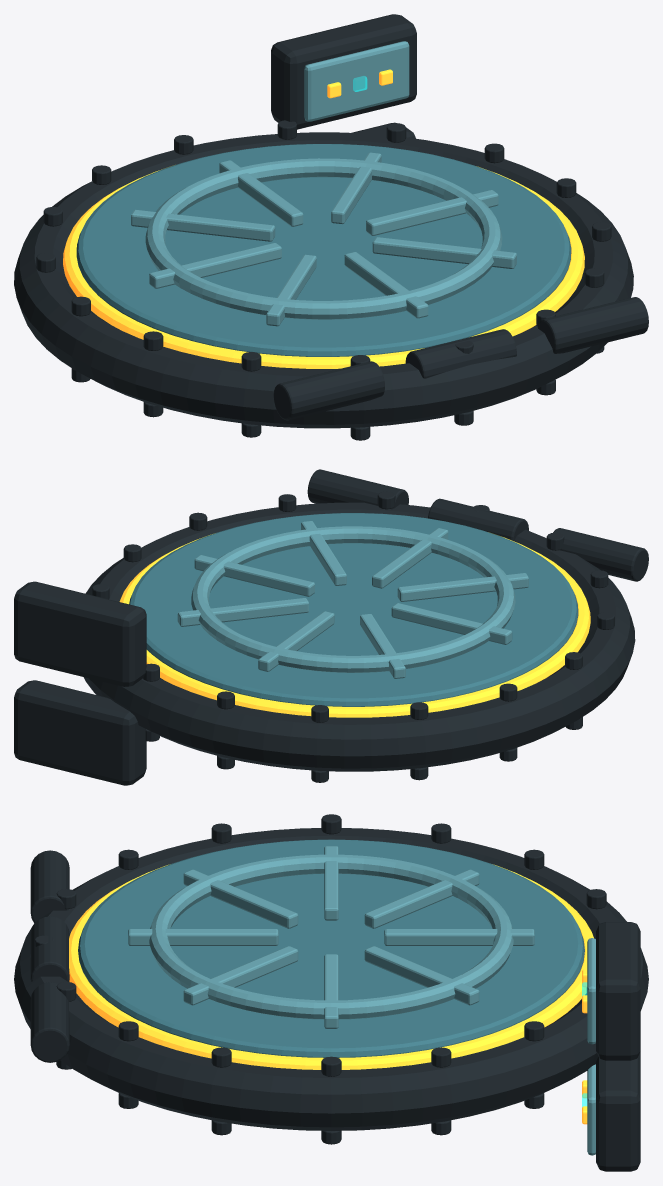
Rendered from 02_round_hinged_armored.glb.
3 views of the same model, one above another, from view 1: azimuth 30°, elevation 25°; view 2: azimuth 150°, elevation 25°; view 3: azimuth 270°, elevation 25° (orthographic). The views are drawn at different scales.
Parts seen in each view (by area): view 1: Moving_Round_Armored_Leaf, Outer_Reinforced_Rim, Moving_Top_Panel_Reinforcement, Inner_Pressure_Seal_Top, Control_Top_Housing, Control_Top_Face, External_Hinge_Barrel_0.001, External_Hinge_Barrel_2.001, External_Hinge_Barrel_1.001, Moving_Top_Radial_Rib_3, Moving_Top_Radial_Rib_7, Moving_Top_Radial_Rib_0 (+5 smaller); view 2: Moving_Round_Armored_Leaf, Outer_Reinforced_Rim, Moving_Top_Panel_Reinforcement, Control_Top_Housing, Control_Bottom_Housing, Inner_Pressure_Seal_Top, External_Hinge_Barrel_0.001, External_Hinge_Barrel_2.001, External_Hinge_Barrel_1.001, Moving_Top_Radial_Rib_5, Moving_Top_Radial_Rib_1, Moving_Top_Radial_Rib_0 (+5 smaller); view 3: Moving_Round_Armored_Leaf, Outer_Reinforced_Rim, Moving_Top_Panel_Reinforcement, Inner_Pressure_Seal_Top, Control_Top_Housing, Control_Bottom_Housing, External_Hinge_Barrel_2.001, Moving_Top_Radial_Rib_2, Moving_Top_Radial_Rib_6, External_Hinge_Barrel_0.001, External_Hinge_Barrel_1.001, Moving_Top_Radial_Rib_3 (+7 smaller).
Part boxes in pixels (<box>): Moving_Round_Armored_Leaf: <box>76,144,571,356</box>; Outer_Reinforced_Rim: <box>14,132,633,428</box>; Moving_Top_Panel_Reinforcement: <box>145,158,502,319</box>; Inner_Pressure_Seal_Top: <box>63,166,584,368</box>; Control_Top_Housing: <box>271,14,416,129</box>; Control_Top_Face: <box>304,41,409,121</box>; External_Hinge_Barrel_0.001: <box>273,361,384,420</box>; External_Hinge_Barrel_2.001: <box>537,297,648,353</box>; External_Hinge_Barrel_1.001: <box>405,329,516,378</box>; Moving_Top_Radial_Rib_3: <box>131,209,275,241</box>; Moving_Top_Radial_Rib_7: <box>372,237,516,268</box>; Moving_Top_Radial_Rib_0: <box>366,190,498,235</box>; Moving_Round_Armored_Leaf: <box>129,513,578,706</box>; Outer_Reinforced_Rim: <box>83,502,635,771</box>; Moving_Top_Panel_Reinforcement: <box>191,526,515,672</box>; Control_Top_Housing: <box>14,581,146,686</box>; Control_Bottom_Housing: <box>14,680,146,785</box>; Inner_Pressure_Seal_Top: <box>119,534,590,717</box>; External_Hinge_Barrel_0.001: <box>553,528,648,581</box>; External_Hinge_Barrel_2.001: <box>307,469,408,509</box>; External_Hinge_Barrel_1.001: <box>428,498,528,541</box>; Moving_Top_Radial_Rib_5: <box>397,573,528,601</box>; Moving_Top_Radial_Rib_1: <box>177,598,308,626</box>; Moving_Top_Radial_Rib_0: <box>194,555,314,596</box>; Moving_Round_Armored_Leaf: <box>78,839,584,1057</box>; Outer_Reinforced_Rim: <box>14,828,648,1130</box>; Moving_Top_Panel_Reinforcement: <box>149,854,513,1019</box>; Inner_Pressure_Seal_Top: <box>69,864,593,1069</box>; Control_Top_Housing: <box>596,922,640,1060</box>; Control_Bottom_Housing: <box>596,1052,640,1171</box>; External_Hinge_Barrel_2.001: <box>30,982,69,1062</box>; Moving_Top_Radial_Rib_2: <box>384,929,534,945</box>; Moving_Top_Radial_Rib_6: <box>128,929,278,945</box>; External_Hinge_Barrel_0.001: <box>30,850,69,923</box>; External_Hinge_Barrel_1.001: <box>30,916,69,981</box>; Moving_Top_Radial_Rib_3: <box>364,869,479,928</box>.
Bounding box in the file's own units: 1.14 × 0.38 × 1.14.
